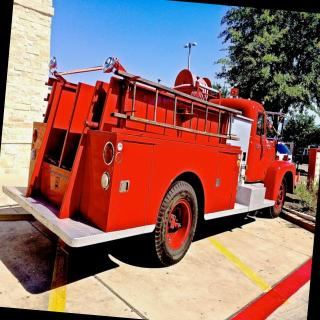Fire_truck: (0, 47, 306, 277)
